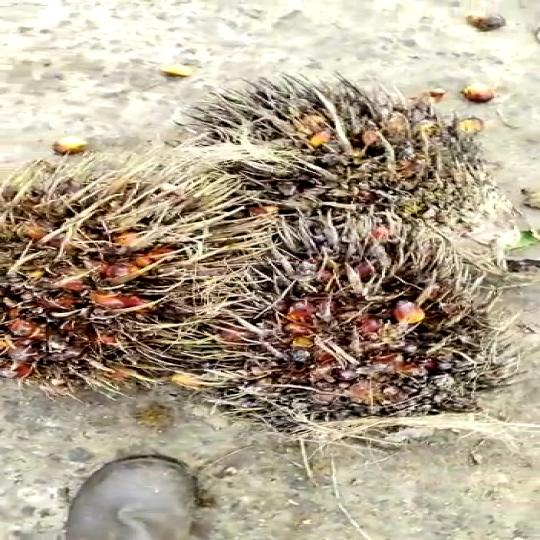terlalu masak: (184, 224, 533, 420), (0, 162, 256, 394), (161, 84, 505, 238)
